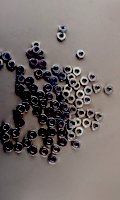nut: (1, 123, 11, 133), (0, 133, 10, 143), (28, 130, 38, 140), (48, 155, 58, 165), (68, 119, 78, 129), (45, 107, 55, 117), (82, 119, 92, 129), (23, 138, 32, 149), (40, 147, 49, 158), (4, 143, 14, 152), (11, 129, 21, 138), (16, 118, 25, 128), (29, 146, 38, 156), (45, 137, 54, 147), (39, 128, 48, 138), (72, 140, 81, 150), (59, 138, 68, 148), (39, 99, 49, 108), (33, 107, 43, 116), (84, 86, 94, 95), (105, 85, 114, 95), (76, 90, 86, 99), (48, 128, 57, 138), (39, 115, 49, 124), (57, 120, 67, 129), (47, 118, 57, 127), (53, 110, 63, 119), (51, 101, 61, 110), (63, 112, 72, 122), (57, 129, 67, 138), (75, 127, 84, 137), (77, 109, 87, 118), (77, 50, 86, 59), (30, 58, 39, 67), (39, 60, 48, 69), (52, 65, 61, 74), (16, 75, 25, 84), (35, 69, 44, 78), (16, 84, 25, 93), (37, 49, 46, 58), (89, 73, 98, 82), (44, 84, 53, 93), (81, 77, 90, 86), (17, 105, 26, 114), (22, 103, 31, 112), (52, 145, 61, 154), (30, 97, 39, 106), (46, 93, 55, 102), (62, 90, 71, 99), (73, 82, 82, 91), (84, 96, 93, 105), (75, 99, 84, 108), (61, 103, 70, 112), (69, 106, 78, 115), (67, 132, 76, 141), (92, 122, 101, 131), (95, 112, 104, 121), (87, 109, 96, 118), (15, 143, 23, 153), (8, 60, 16, 70), (30, 84, 38, 94), (70, 78, 78, 88), (55, 85, 63, 95), (17, 66, 26, 74), (32, 46, 41, 54), (44, 71, 52, 80), (26, 77, 34, 86), (59, 72, 67, 81), (74, 67, 82, 76), (23, 91, 31, 100), (51, 77, 59, 86), (14, 110, 22, 119), (37, 91, 45, 100), (64, 85, 73, 93), (94, 84, 102, 93), (58, 94, 66, 103), (68, 95, 76, 104), (49, 128, 57, 137), (66, 123, 74, 132), (74, 118, 82, 127), (3, 53, 11, 61), (27, 49, 35, 57), (65, 66, 73, 74), (59, 25, 68, 32), (58, 33, 66, 40), (32, 41, 41, 47), (68, 74, 76, 80), (0, 59, 3, 68), (0, 50, 2, 58)
